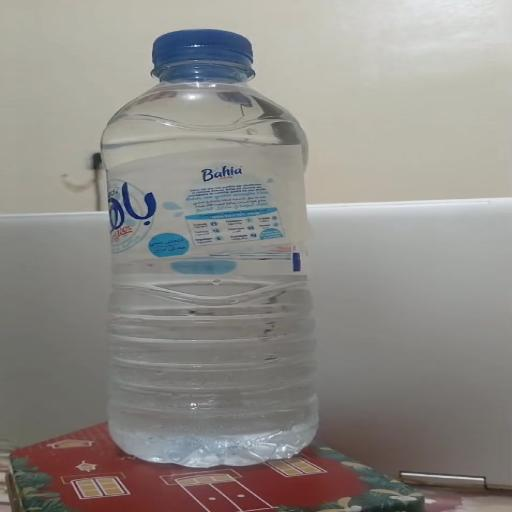bouteille conformite: (106, 25, 342, 467)
